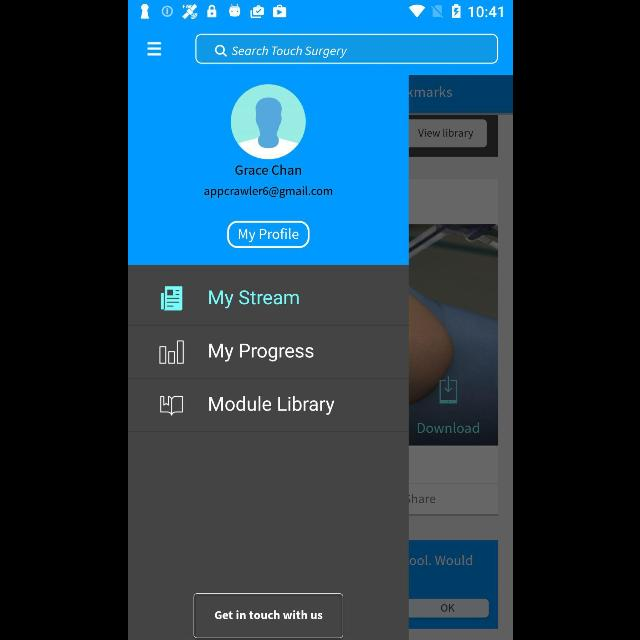icon: (230, 84, 306, 160), (158, 340, 184, 364), (160, 286, 182, 312), (160, 396, 182, 416), (146, 42, 160, 56)
input: (195, 34, 497, 64)
panel: (128, 76, 408, 640)
text: (208, 396, 334, 416), (208, 343, 314, 362), (208, 290, 298, 308), (204, 186, 332, 198), (234, 164, 302, 176)
textbutton: (193, 594, 343, 638), (226, 221, 310, 249)
toolbar: (128, 23, 512, 75)
uppertaskbar: (128, 1, 512, 23)
